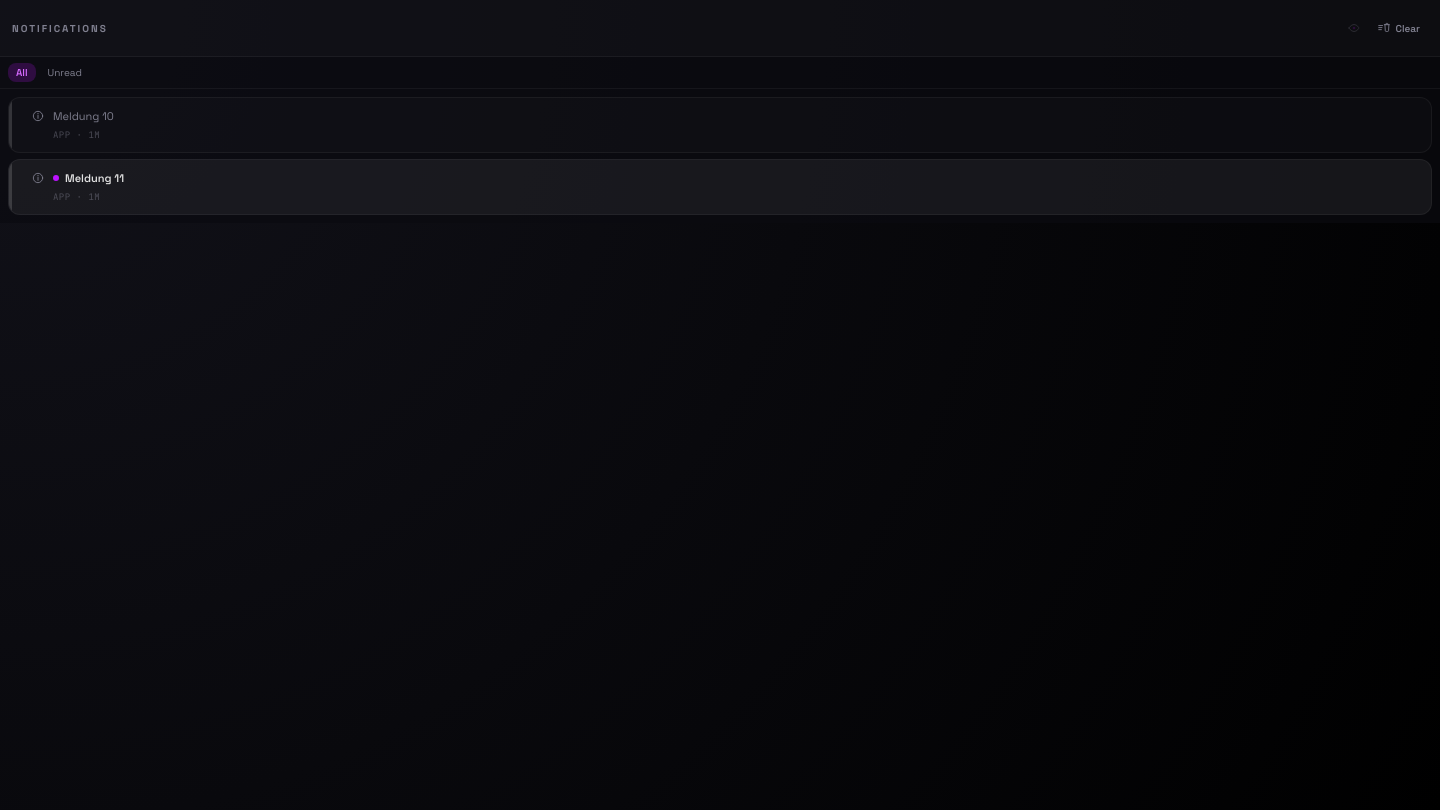
Test: NotificationsPanel › filters › says how many rows a filter is hiding
The image size is (1440, 810).
Step 1. Click the button with test id "notifications-filter-unread" → (65, 72), box [40,63,90,82]
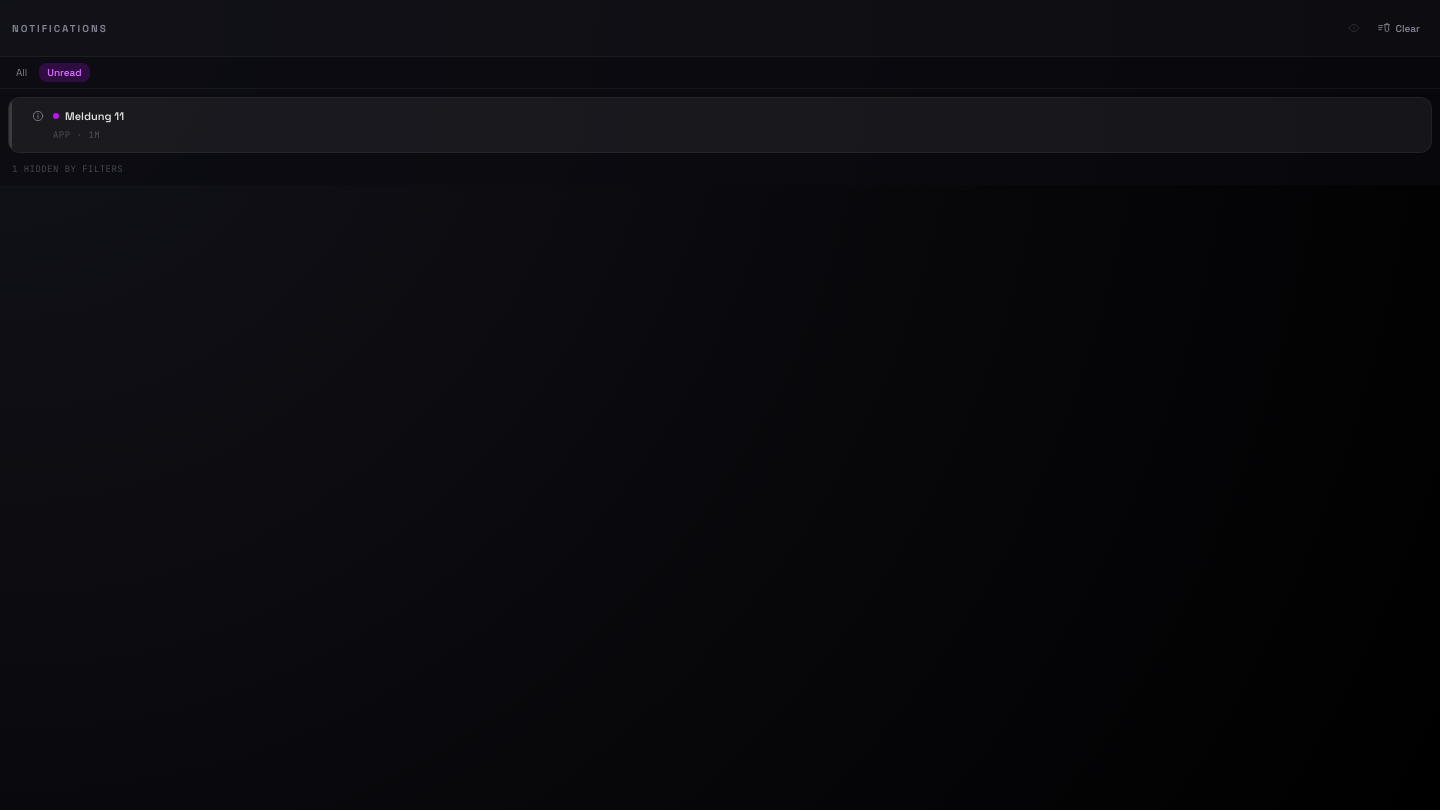
Expected: the text with test id "notifications-hidden-note" reads "1 hidden by filters", [12,163,123,175]
